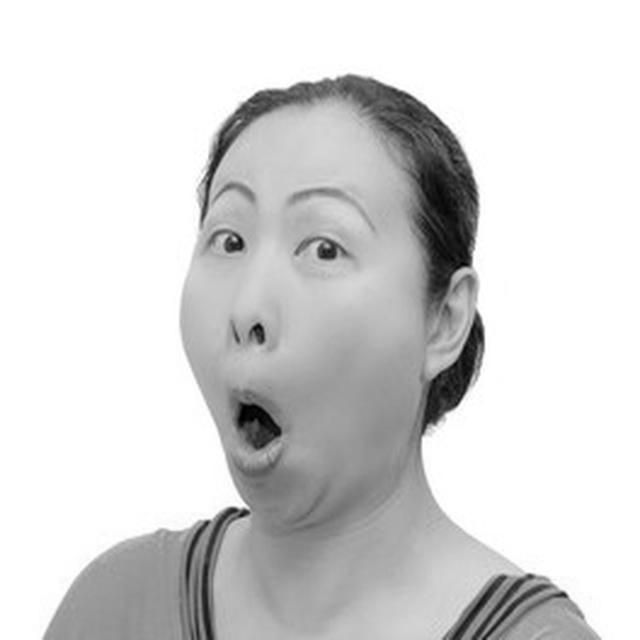Surprised: (179, 106, 428, 524)
